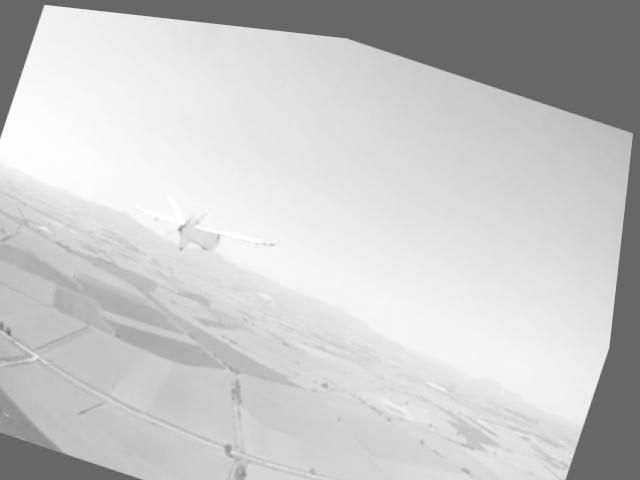hedef: (91, 157, 313, 292)
